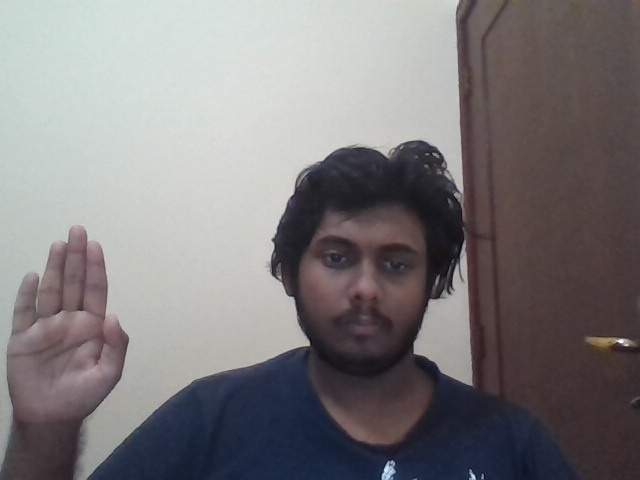hello: (4, 225, 131, 430)
